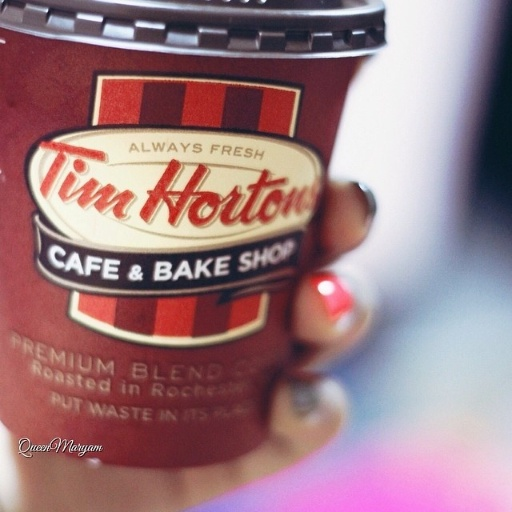hand: (0, 174, 376, 511)
